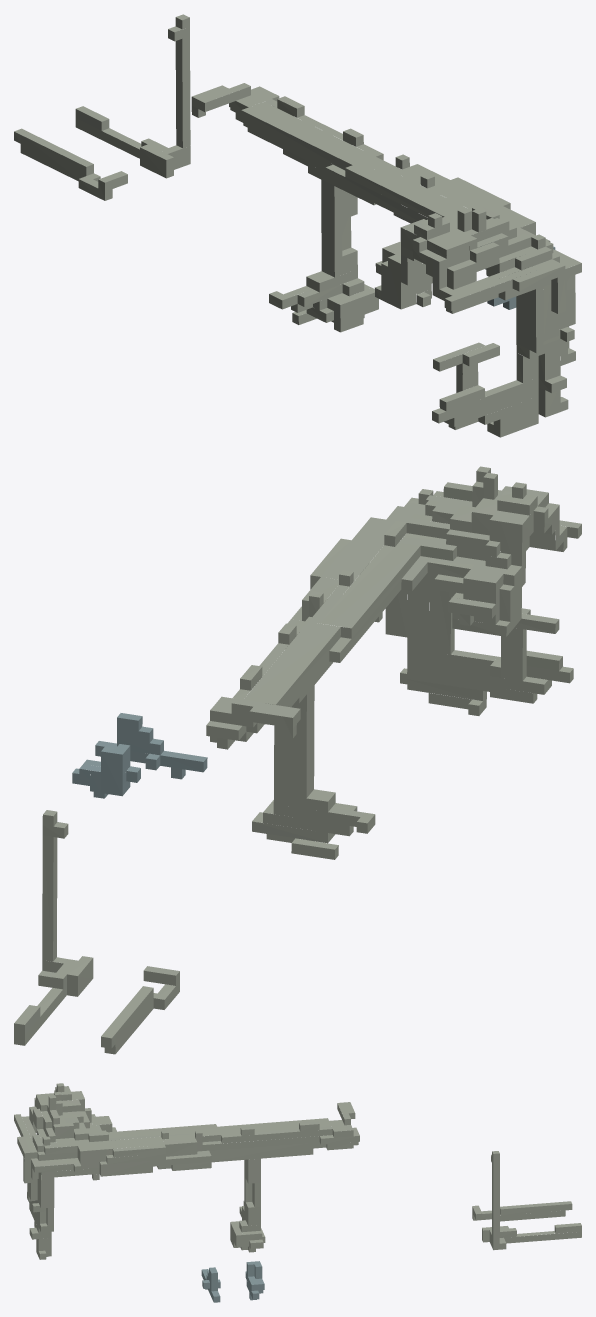
3 renders of one model, top to bottom at view 1: azimuth 30°, elevation 25°; view 2: azimuth 150°, elevation 25°; view 3: azimuth 270°, elevation 25°, orthographic. The views are drawn at different scales.
Visible parts, largest first — view 1: measured-industrial; view 2: measured-industrial; view 3: measured-industrial.
Part boxes in pixels (<box>): measured-industrial: <box>14,14,581,437</box>; measured-industrial: <box>14,466,581,1054</box>; measured-industrial: <box>14,1083,581,1302</box>.
Size of the model in its own units: 32.44 by 24.03 by 85.81.
